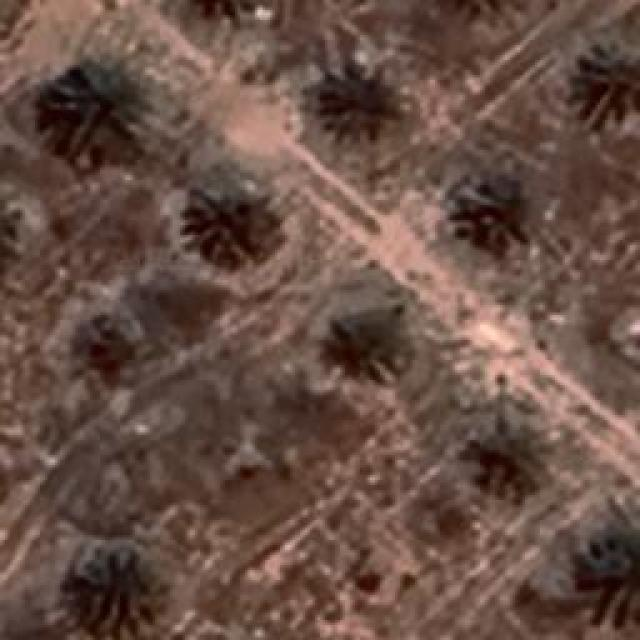PalmTree: (73, 62, 366, 342), (48, 52, 150, 146), (182, 180, 276, 270), (325, 59, 405, 162), (447, 172, 545, 256), (70, 547, 160, 635), (89, 14, 224, 62), (590, 500, 638, 628), (476, 412, 549, 496), (572, 35, 638, 123), (0, 192, 29, 290), (0, 188, 18, 288), (181, 0, 271, 19), (435, 0, 522, 19), (436, 0, 524, 15)
